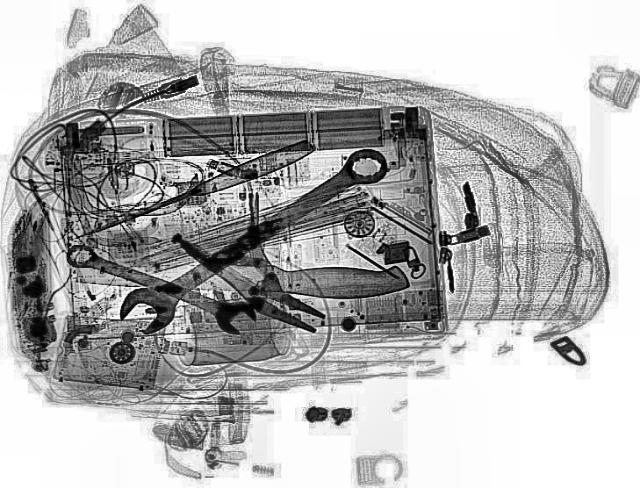Knife: (63, 136, 320, 246), (73, 218, 410, 298)
Wrench: (103, 138, 404, 338), (52, 235, 264, 337)
